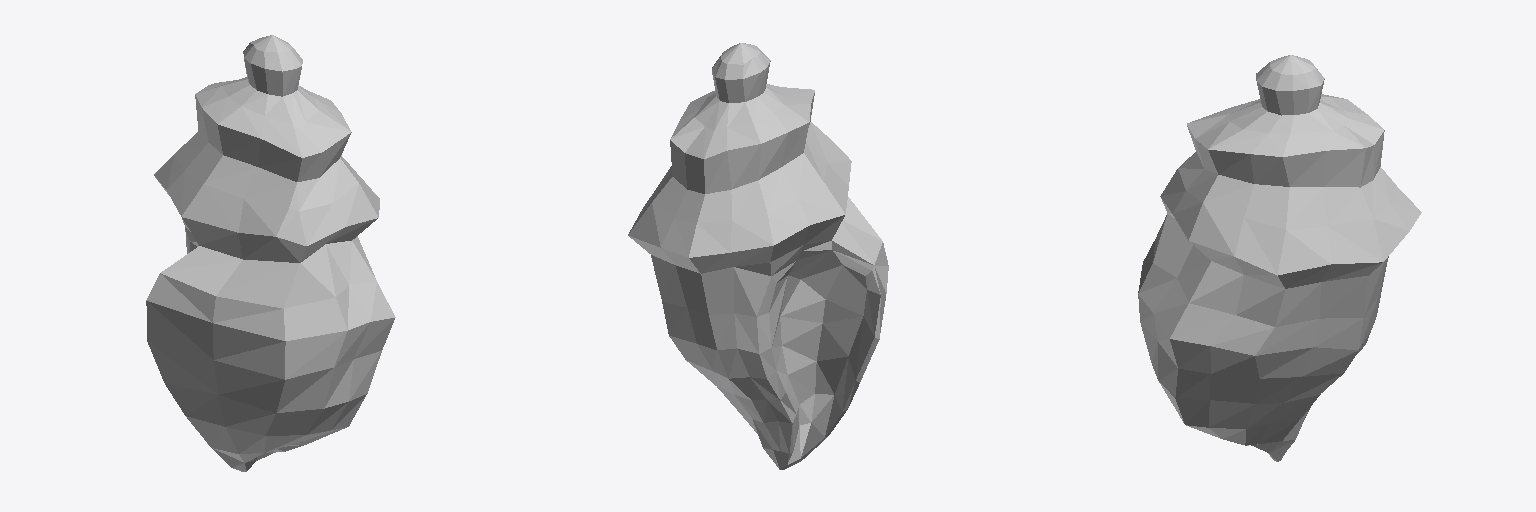
File: mermaid_weapon_low.obj
3 views of the same model, side by side, from view 1: azimuth 30°, elevation 25°; view 2: azimuth 150°, elevation 25°; view 3: azimuth 270°, elevation 25° (orthographic).
Bounding box in the file's own units: 43.36 × 77.01 × 46.72.